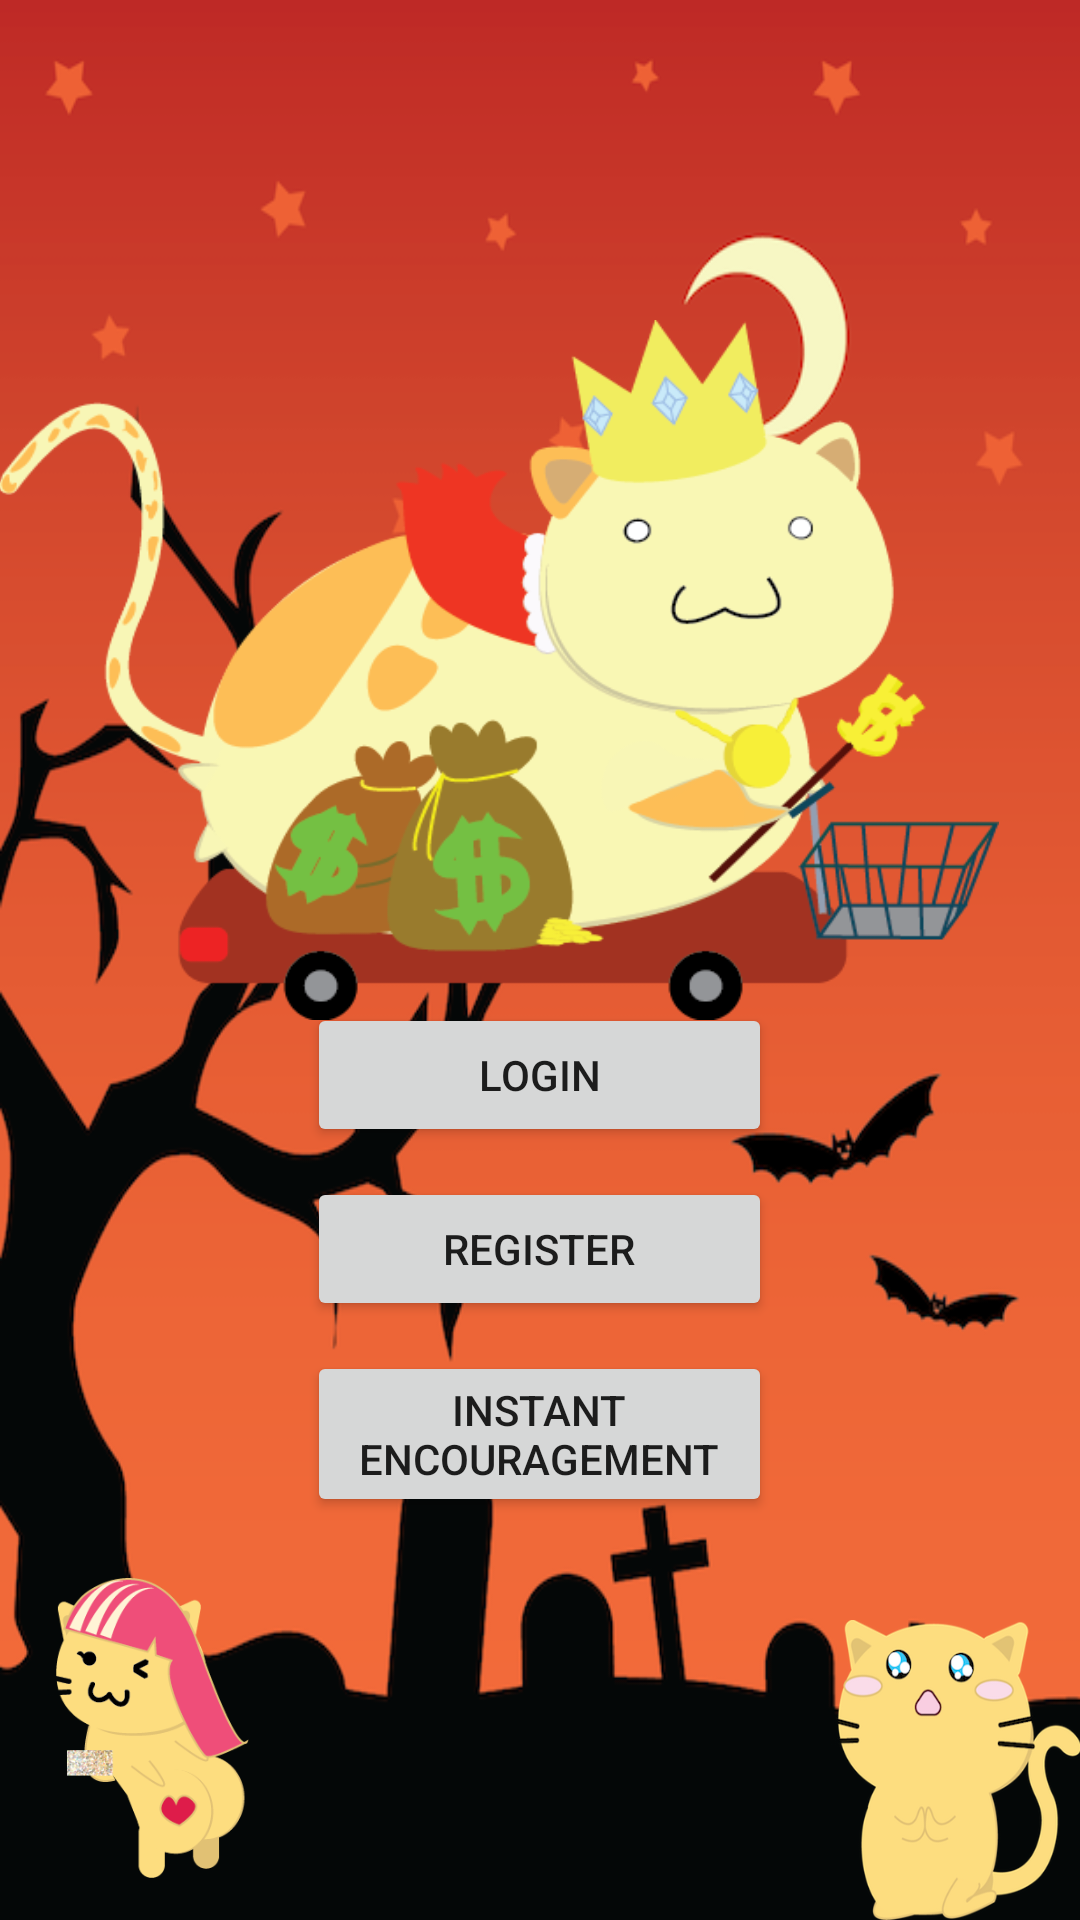

Point at icon controls on the screen. Image size 1080*1920, points as (x,y).
butt cat: (124,1728)
pray cat: (955,1770)
